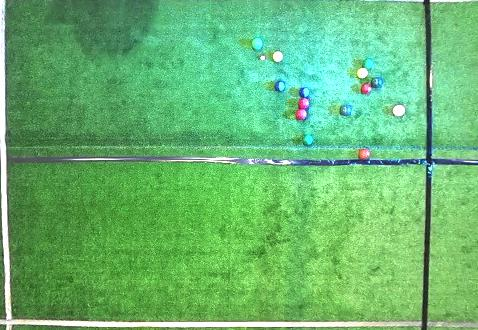blue: (274, 81, 285, 92), (299, 88, 309, 98)
green: (251, 38, 263, 50), (371, 78, 383, 89), (340, 105, 351, 116), (302, 134, 313, 145), (362, 59, 373, 69)
red: (393, 105, 405, 116), (298, 98, 310, 109), (358, 149, 370, 160), (296, 109, 307, 120), (361, 84, 371, 94)
vline: (421, 1, 478, 329), (0, 1, 15, 329)
white: (260, 56, 265, 60)
yellow: (357, 68, 368, 79), (273, 51, 283, 62)
